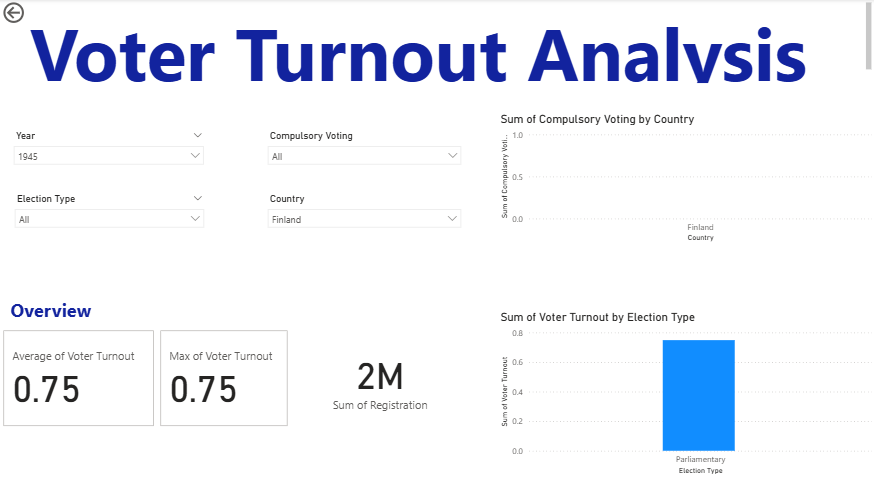

The page's visual inventory and layout, read from the dashboard file:
{"tool":"powerbi","page":{"name":"Page 1","canvas":[1280,720],"ordinal":0},"visuals":[{"type":"textbox","box":[10.1,0,1269.9,127.7],"z":0},{"type":"slicer","fields":{"Values":["cleaned_voter_turnout_with_country.Year"]},"box":[10,186.7,298.3,93.3],"z":1000},{"type":"slicer","fields":{"Values":["cleaned_voter_turnout_with_country.Election Type"]},"box":[11.7,280,296.7,100],"z":2000},{"type":"slicer","fields":{"Values":["cleaned_voter_turnout_with_country.Compulsory Voting"]},"box":[381.7,186.7,303.3,130],"z":3000},{"type":"slicer","fields":{"Values":["cleaned_voter_turnout_with_country.Country"]},"box":[381.9,279.2,302.8,150],"z":4000},{"type":"textbox","box":[10,431.5,298,142],"z":5000},{"type":"cardVisual","fields":{"Data":["Avg(cleaned_voter_turnout_with_country.Voter Turnout)"]},"box":[0,480,230,150],"z":6000},{"type":"cardVisual","fields":{"Data":["Max(cleaned_voter_turnout_with_country.Voter Turnout)"]},"box":[230,480,196.7,150],"z":7000},{"type":"clusteredColumnChart","fields":{"Category":["cleaned_voter_turnout_with_country.Country"],"Y":["Sum(cleaned_voter_turnout_with_country.Compulsory Voting)"]},"box":[726.7,165,553.3,195],"z":8000},{"type":"columnChart","fields":{"Category":["cleaned_voter_turnout_with_country.Election Type"],"Y":["Sum(cleaned_voter_turnout_with_country.Voter Turnout)"]},"box":[726.7,455,553.3,245],"z":9000},{"type":"card","fields":{"Values":["Sum(cleaned_voter_turnout_with_country.Registration)"]},"box":[427,480,258,150],"z":10000},{"type":"actionButton","box":[0,0,100,40],"z":11000}]}

Visuals, with their boxes on the page's 1280x720 design canvas (x1, y1, x2, y2). These are canvas units, not pixel positions in the 874x491 screenshot, which may show the page scaled, cropped or inside an application window:
textbox: locate(10, 0, 1280, 128)
slicer - cleaned_voter_turnout_with_country.Year: locate(10, 187, 308, 280)
slicer - cleaned_voter_turnout_with_country.Election Type: locate(12, 280, 308, 380)
slicer - cleaned_voter_turnout_with_country.Compulsory Voting: locate(382, 187, 685, 317)
slicer - cleaned_voter_turnout_with_country.Country: locate(382, 279, 685, 429)
textbox: locate(10, 432, 308, 574)
cardVisual - Avg(cleaned_voter_turnout_with_country.Voter Turnout): locate(0, 480, 230, 630)
cardVisual - Max(cleaned_voter_turnout_with_country.Voter Turnout): locate(230, 480, 427, 630)
clusteredColumnChart - cleaned_voter_turnout_with_country.Country x Sum(cleaned_voter_turnout_with_country.Compulsory Voting): locate(727, 165, 1280, 360)
columnChart - cleaned_voter_turnout_with_country.Election Type x Sum(cleaned_voter_turnout_with_country.Voter Turnout): locate(727, 455, 1280, 700)
card - Sum(cleaned_voter_turnout_with_country.Registration): locate(427, 480, 685, 630)
actionButton: locate(0, 0, 100, 40)
